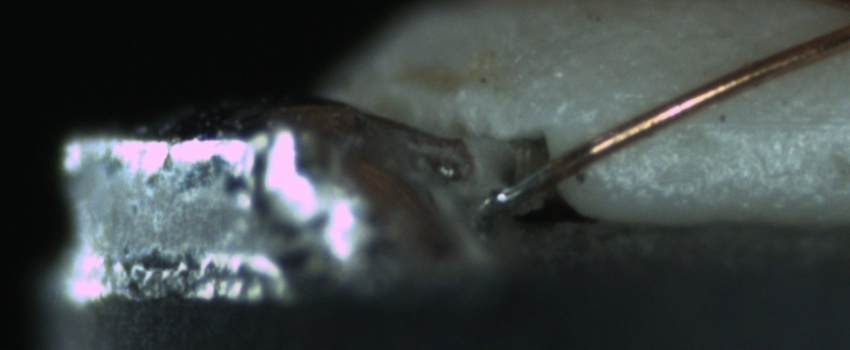DL: (676, 93, 850, 154)
